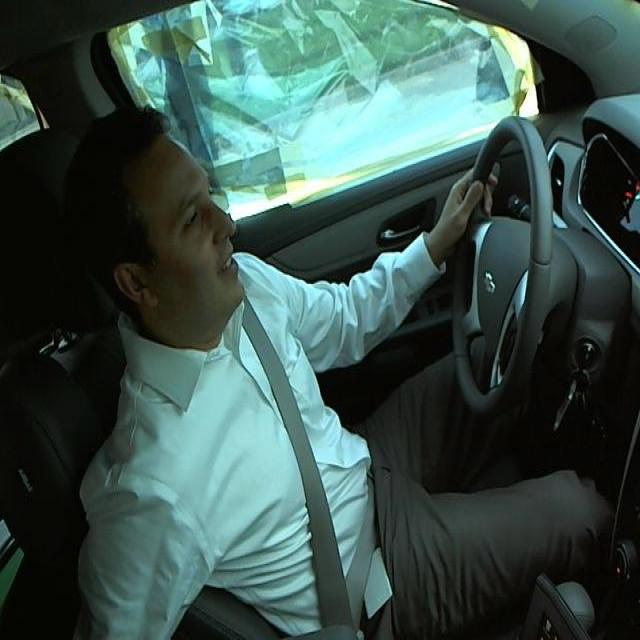seatbelt: (240, 349, 386, 616)
